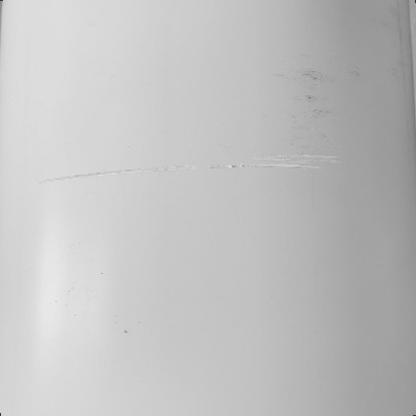sunshang: (38, 149, 349, 192)
